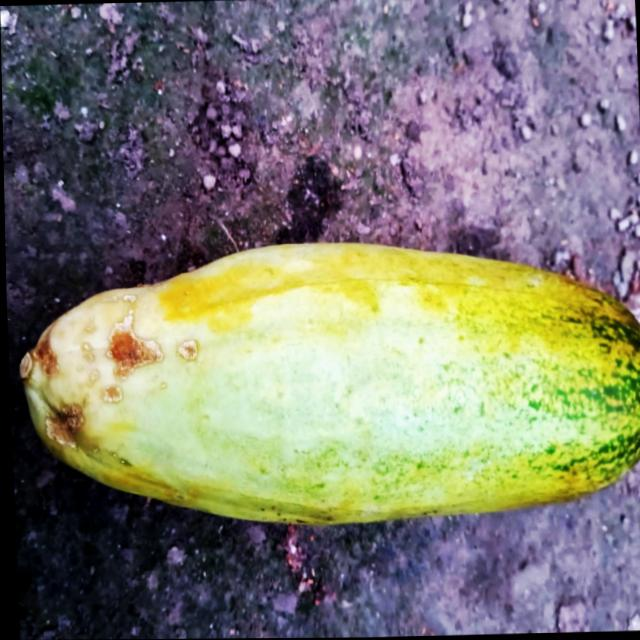Belly-Rot: (8, 281, 203, 455)
